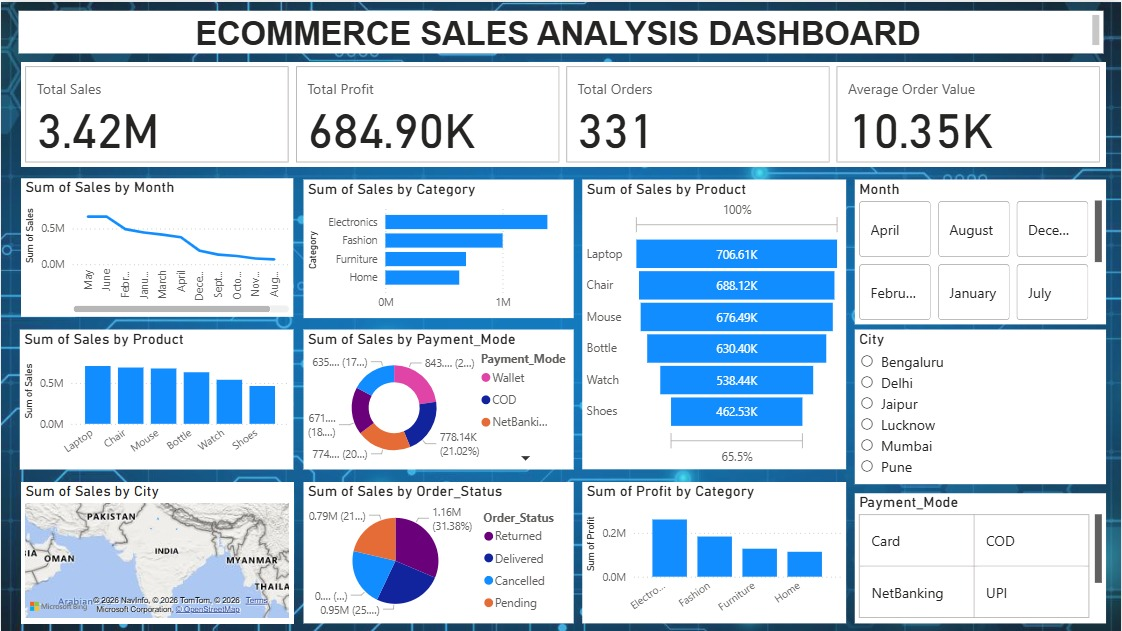

The dashboard page shown, as its layout file describes it:
{"tool":"powerbi","page":{"name":"Page 1","canvas":[1280,720],"ordinal":0},"visuals":[{"type":"cardVisual","fields":{"Data":["Dax Measures.Total Sales","Dax Measures.Total Profit","Dax Measures.Total Orders","Dax Measures.Average Order Value"]},"box":[22.9,68.6,1240,120],"z":0},{"type":"lineChart","fields":{"Category":["ecommerce orders.Month"],"Y":["Sum(ecommerce orders.Sales)"]},"box":[22.9,201.4,311.4,158.6],"z":1000},{"type":"barChart","fields":{"Category":["ecommerce orders.Category"],"Y":["Sum(ecommerce orders.Sales)"]},"box":[345.7,202.9,308.6,158.6],"z":2000},{"type":"textbox","box":[20,10,1240,48.6],"z":3000},{"type":"filledMap","fields":{"Category":["ecommerce orders.City"]},"box":[22.9,548.6,311.4,161.4],"z":4000},{"type":"columnChart","fields":{"Category":["ecommerce orders.Product"],"Y":["Sum(ecommerce orders.Sales)"]},"box":[21.4,374.3,312.9,160],"z":5000},{"type":"donutChart","fields":{"Category":["ecommerce orders.Payment_Mode"],"Y":["Sum(ecommerce orders.Sales)"]},"box":[345.7,374.3,308.6,160],"z":6000},{"type":"pieChart","fields":{"Category":["ecommerce orders.Order_Status"],"Y":["Sum(ecommerce orders.Sales)"]},"box":[345.7,548.6,308.6,161.4],"z":7000},{"type":"funnel","fields":{"Category":["ecommerce orders.Product"],"Y":["Sum(ecommerce orders.Sales)"]},"box":[664.3,202.9,301.4,331.4],"z":8000},{"type":"columnChart","fields":{"Category":["ecommerce orders.Category"],"Y":["Sum(ecommerce orders.Profit)"]},"box":[664.3,548.6,301.4,161.4],"z":9000},{"type":"advancedSlicerVisual","fields":{"Values":["ecommerce orders.Month"]},"box":[975.7,202.9,287.1,165.7],"z":10000},{"type":"listSlicer","fields":{"Values":["ecommerce orders.City"]},"box":[975.7,374.3,287.1,177.1],"z":11000},{"type":"advancedSlicerVisual","fields":{"Values":["ecommerce orders.Payment_Mode"]},"box":[975.7,561.4,287.1,148.6],"z":12000}]}

Visuals, with their boxes in screenshot pixels (x1, y1, x2, y2), scaled from the page's 1280x720 canvas onto the 1122x631 screenshot:
cardVisual - Dax Measures.Total Sales x Dax Measures.Total Profit: region(20, 60, 1107, 165)
lineChart - ecommerce orders.Month x Sum(ecommerce orders.Sales): region(20, 177, 293, 316)
barChart - ecommerce orders.Category x Sum(ecommerce orders.Sales): region(303, 178, 574, 317)
textbox: region(18, 9, 1104, 51)
filledMap - ecommerce orders.City: region(20, 481, 293, 622)
columnChart - ecommerce orders.Product x Sum(ecommerce orders.Sales): region(19, 328, 293, 468)
donutChart - ecommerce orders.Payment_Mode x Sum(ecommerce orders.Sales): region(303, 328, 574, 468)
pieChart - ecommerce orders.Order_Status x Sum(ecommerce orders.Sales): region(303, 481, 574, 622)
funnel - ecommerce orders.Product x Sum(ecommerce orders.Sales): region(582, 178, 846, 468)
columnChart - ecommerce orders.Category x Sum(ecommerce orders.Profit): region(582, 481, 846, 622)
advancedSlicerVisual - ecommerce orders.Month: region(855, 178, 1107, 323)
listSlicer - ecommerce orders.City: region(855, 328, 1107, 483)
advancedSlicerVisual - ecommerce orders.Payment_Mode: region(855, 492, 1107, 622)
